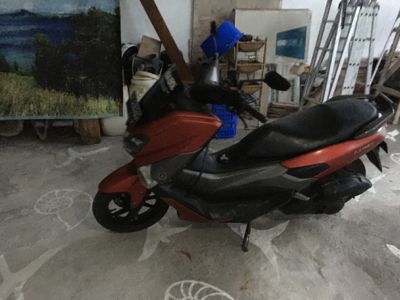moto: (91, 63, 390, 239)
